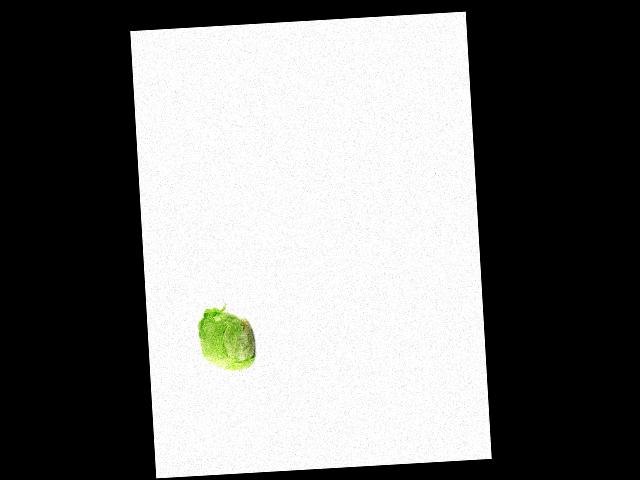lettuce: (194, 308, 258, 375)
